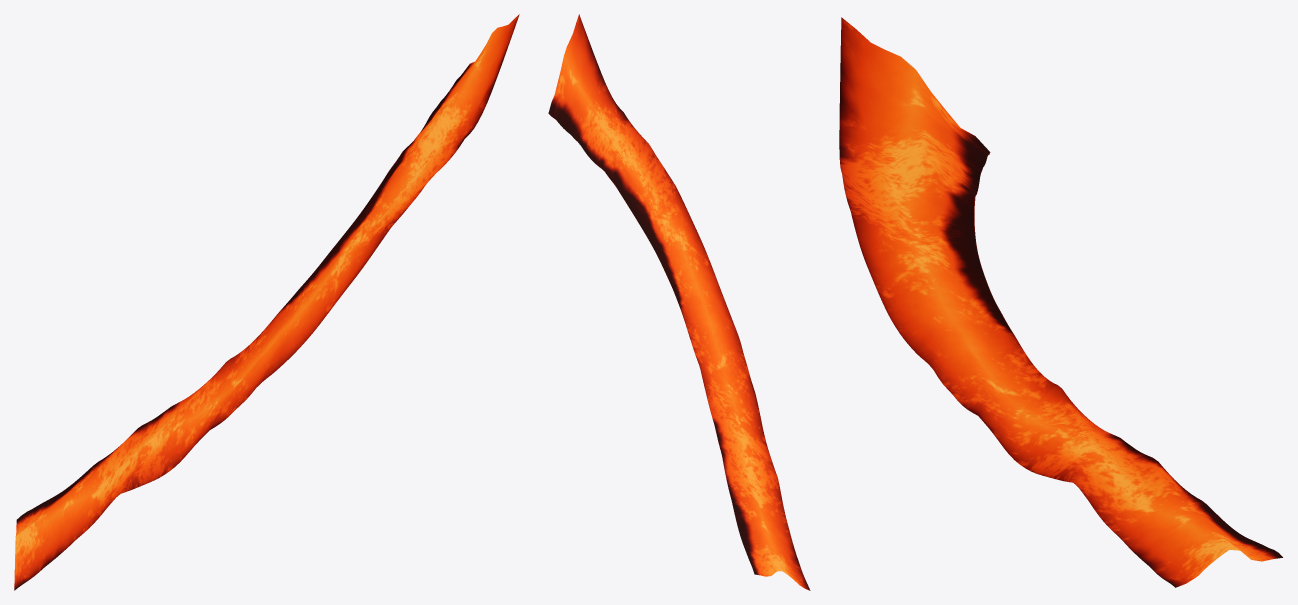
File: flow_0_2.glb
The picture shows the model from 3 angles, left to right: view 1: azimuth 30°, elevation 25°; view 2: azimuth 150°, elevation 25°; view 3: azimuth 270°, elevation 25°; orthographic projection. The views are drawn at different scales.
Bounding box in the file's own units: 19.09 × 25.43 × 11.66.
